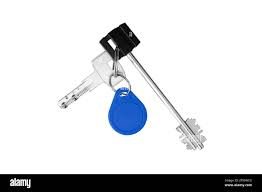key: (97, 19, 213, 156), (55, 47, 129, 115)
